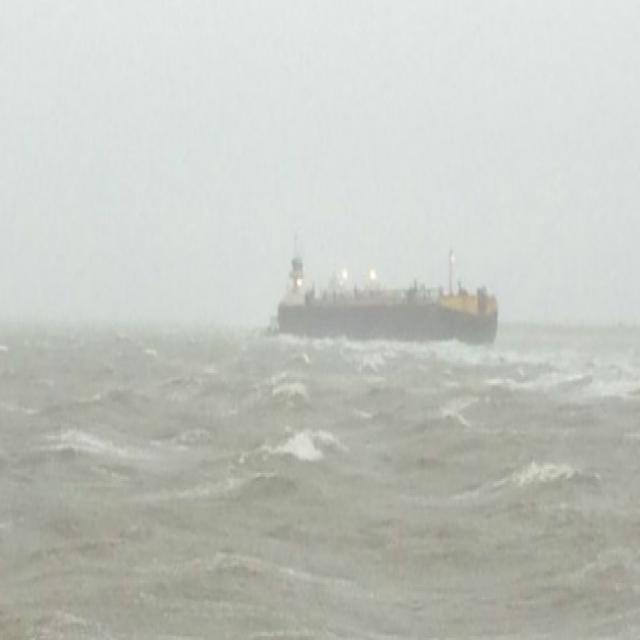cargoship: (276, 236, 499, 352)
